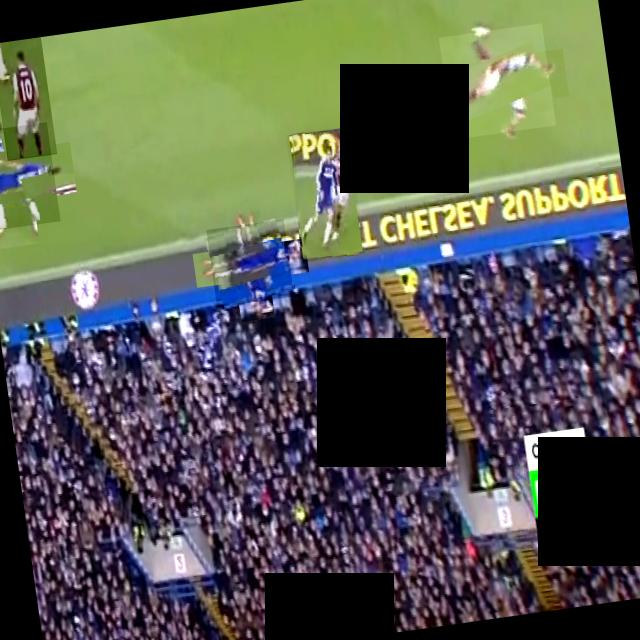soccer-player: (438, 23, 555, 138), (285, 126, 364, 260), (205, 218, 294, 306), (0, 36, 56, 160), (0, 121, 59, 231)
